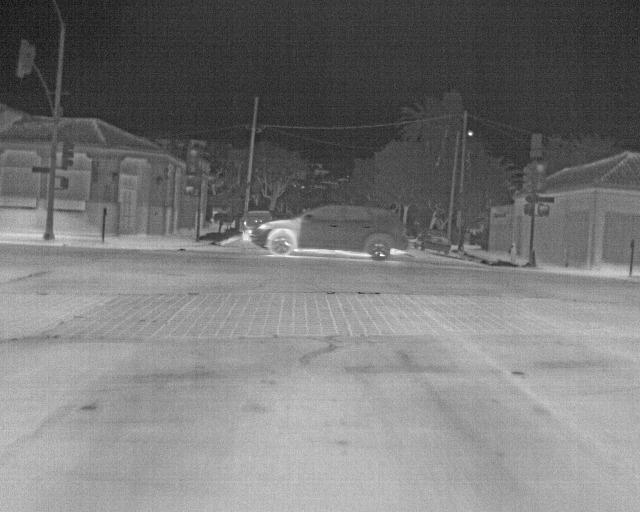car: (252, 204, 405, 262), (238, 210, 272, 243), (414, 226, 451, 256)
